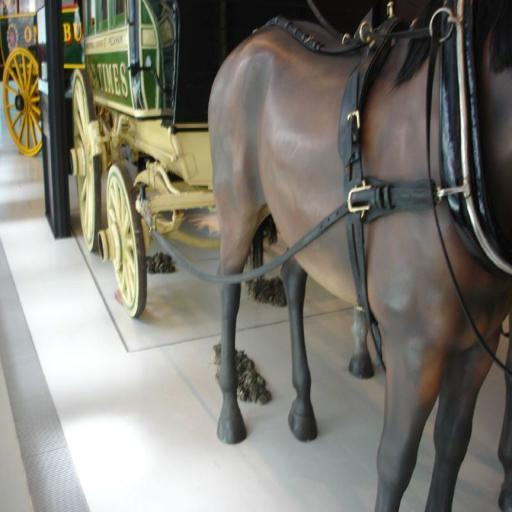horse: (206, 0, 512, 511), (348, 312, 512, 511)
